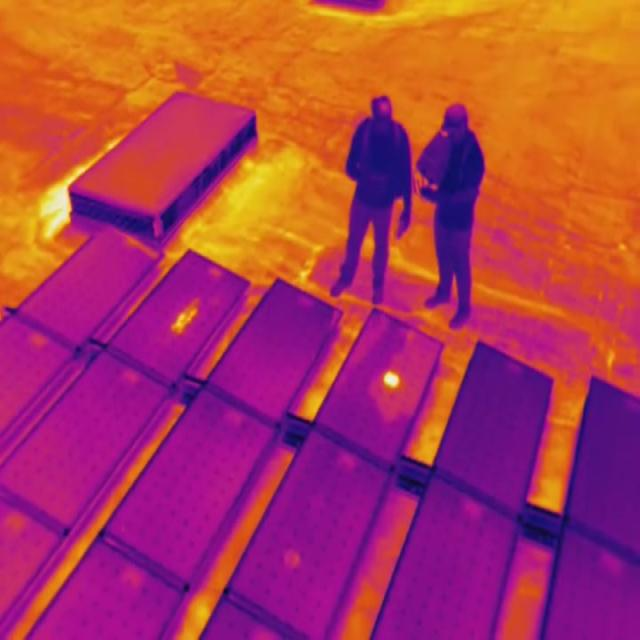Orange-Spots: (172, 292, 200, 335), (283, 544, 303, 571), (382, 368, 401, 389)
